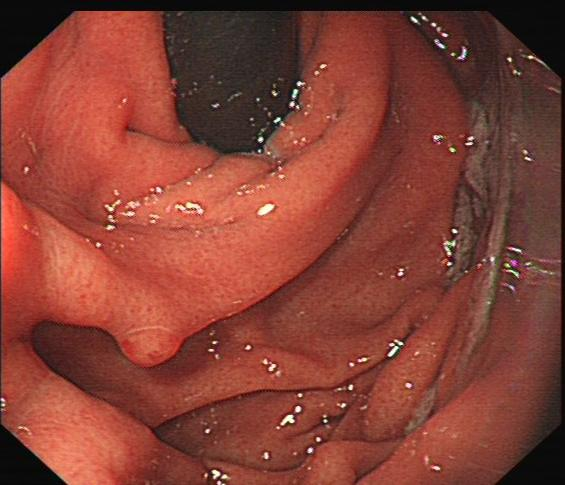Polyp: (106, 316, 190, 372)
